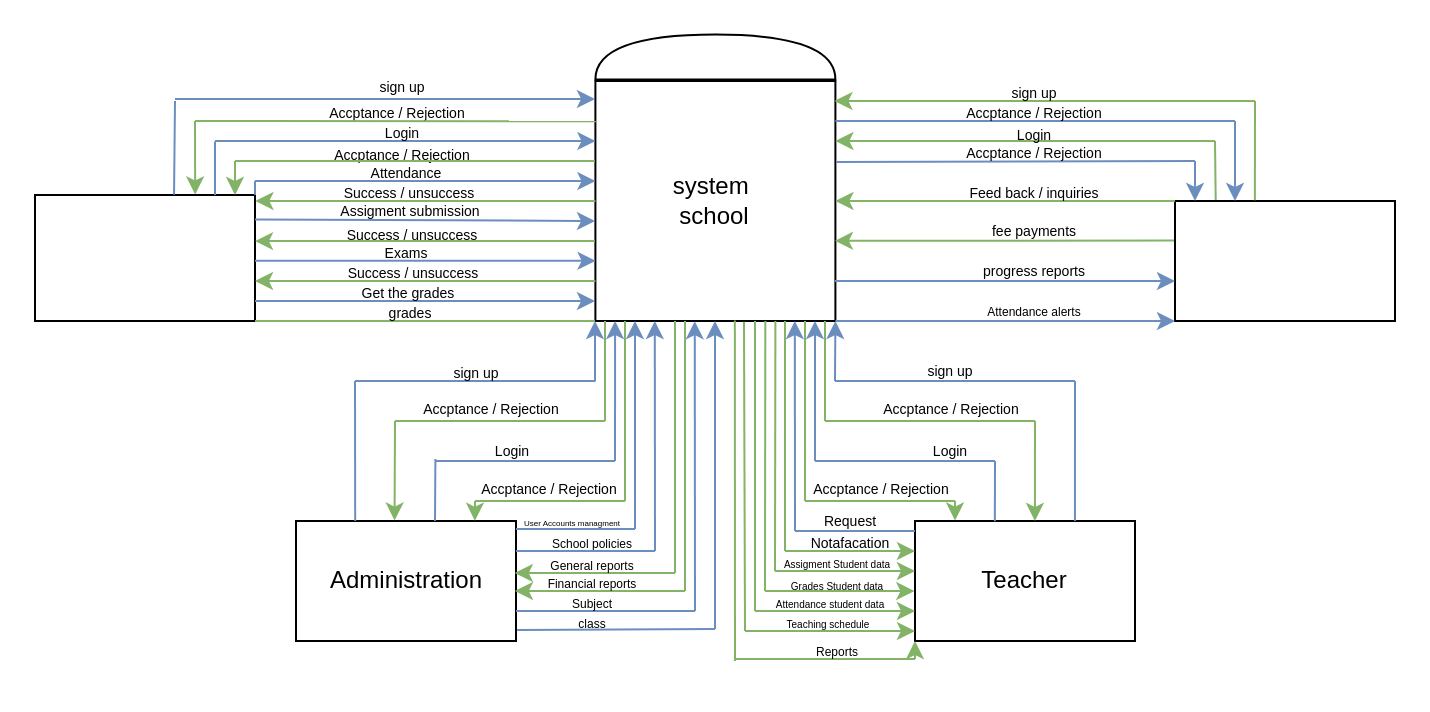
This 1430x712 diagram has some shape labels left out. The shapes that lost their labels are listed below. From the top down, each one's centre as x and y in pixels, then its label:
the point at 144,257: Student
the point at 1284,260: parent
